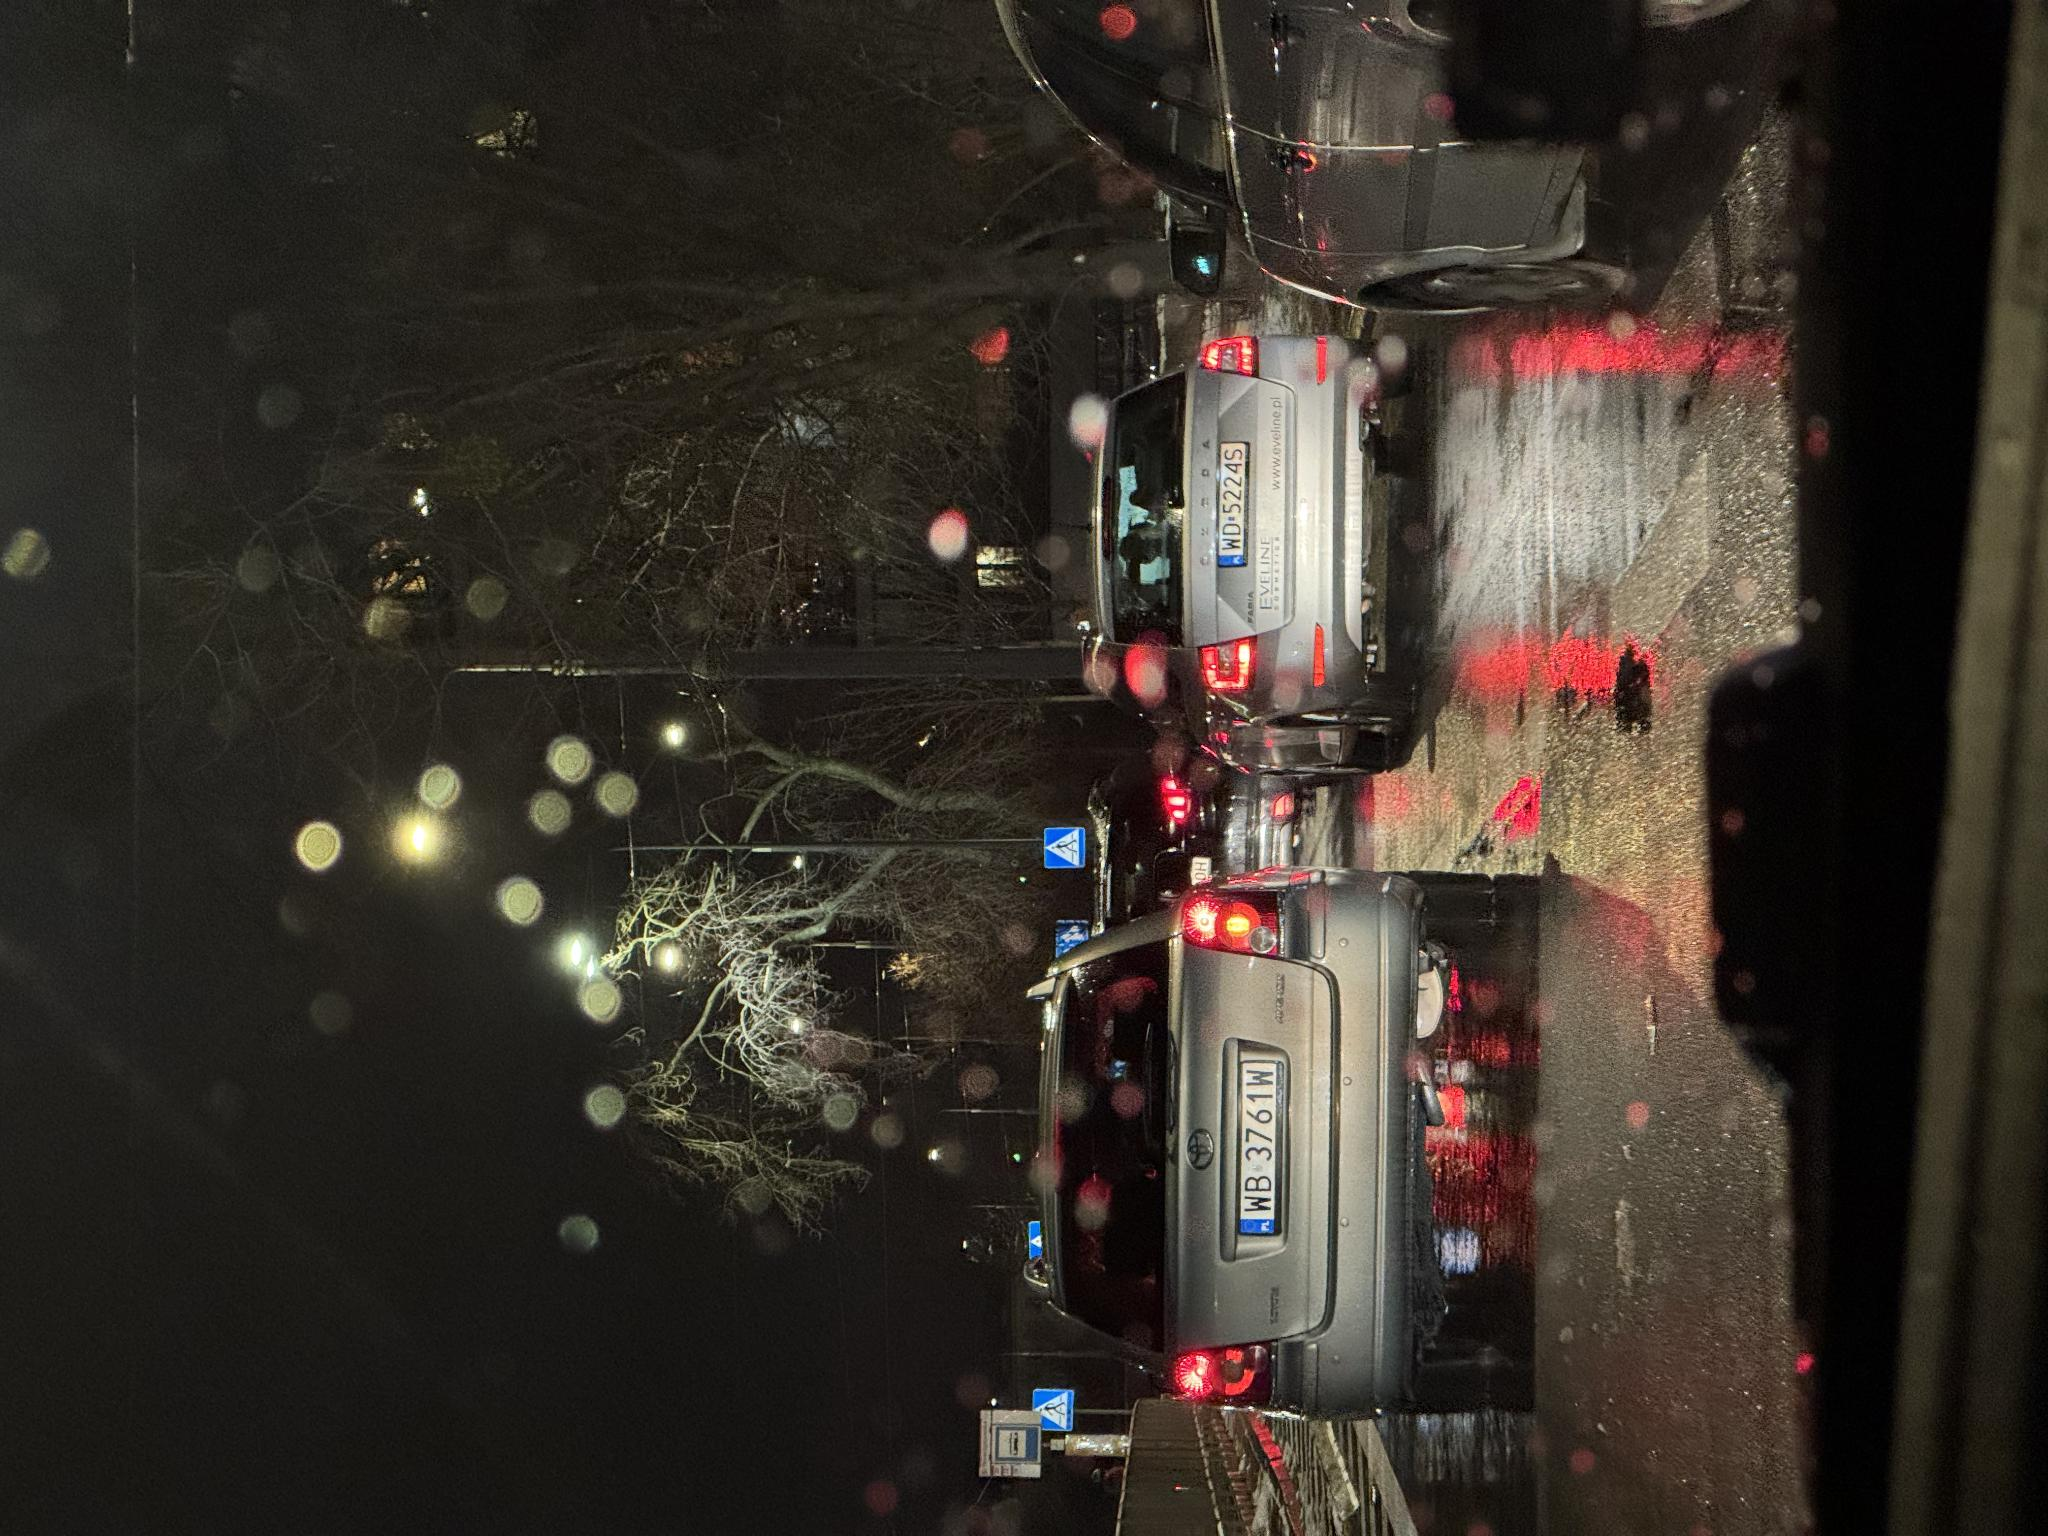information: (666, 1044, 711, 1087), (105, 1033, 148, 1075)
other: (579, 1055, 618, 1086)
